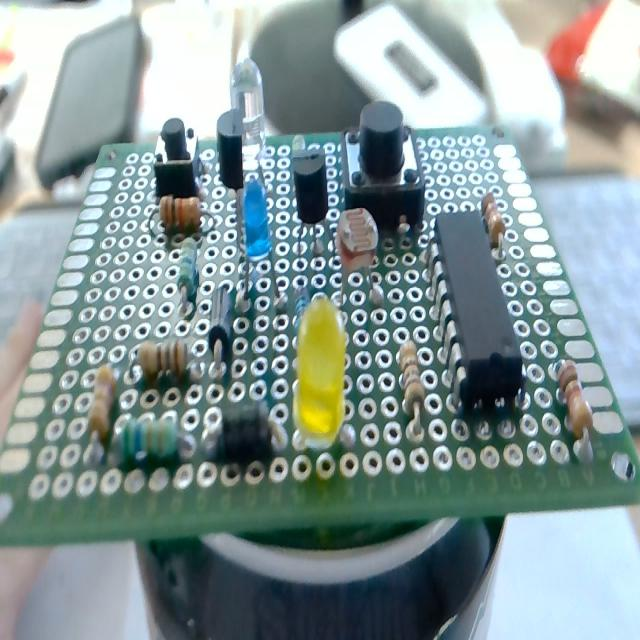IC: (435, 212, 524, 408)
cds: (332, 205, 388, 311)
diode: (207, 399, 275, 463), (209, 284, 234, 364)
led: (289, 299, 353, 474), (238, 175, 283, 313), (230, 58, 266, 160)
resistor: (554, 363, 598, 464), (136, 329, 205, 382), (120, 411, 181, 465), (90, 363, 118, 442), (398, 341, 424, 416), (481, 190, 507, 254), (159, 194, 200, 231), (177, 237, 199, 304)
switch: (340, 103, 426, 234), (154, 118, 200, 202)
transistor: (292, 148, 331, 294), (218, 110, 246, 294)
